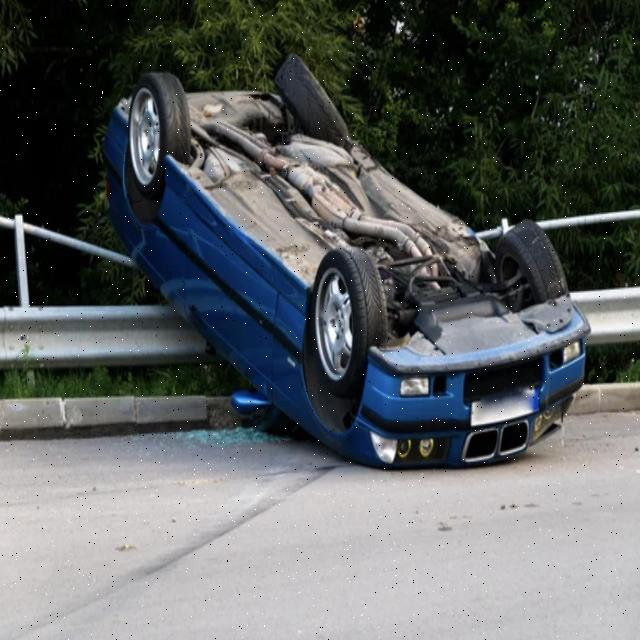severe: (101, 45, 593, 478)
